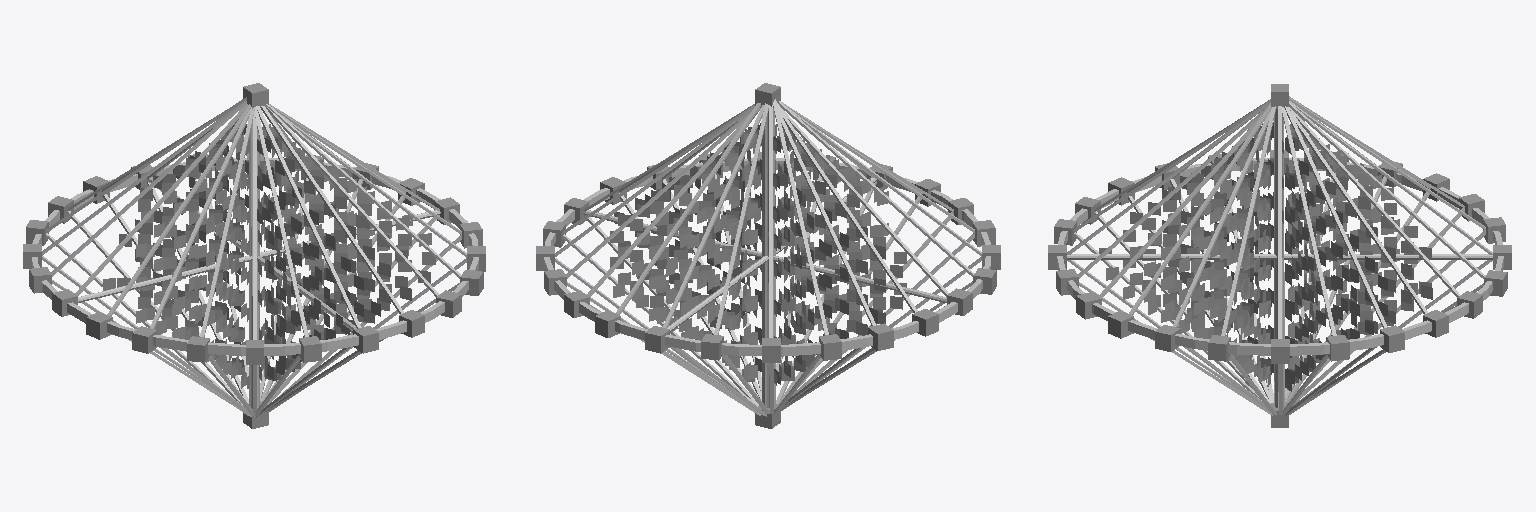
The model's file is NCSPrototyp_UnityOptimierung.obj.
3 views of the same model, side by side, from view 1: azimuth 30°, elevation 25°; view 2: azimuth 150°, elevation 25°; view 3: azimuth 270°, elevation 25° (orthographic).
Parts seen in each view (by area): view 1: Farbkreis_Circle.002, DR_Cube.019, DB50G_Cube.009, DR80B_Cube.005, DR20B_Cube.016, DR70B_Cube.047, DY80R_Cube.033, DR50B_Cube.017, DB20G_Cube.023, DY30R_Cube.041, DY50R_Cube.001, DY70R_Cube.043 (+12 smaller); view 2: Farbkreis_Circle.002, DG20Y_Cube.031, DG70Y_Cube.039, DB50G_Cube.009, DB80G_Cube.021, DG_Cube.013, DB20G_Cube.023, DB30G_Cube.049, DG80Y_Cube.026, DG50Y_Cube.029, DR70B_Cube.047, DR50B_Cube.017 (+11 smaller); view 3: Farbkreis_Circle.002, DY50R_Cube.001, DG70Y_Cube.039, DG20Y_Cube.031, DY30R_Cube.041, DY20R_Cube.035, AchseY_Cylinder.002, DY80R_Cube.033, DG80Y_Cube.026, DG_Cube.013, DG50Y_Cube.029, DR_Cube.019 (+10 smaller).
Boxes of the visible parts, x1=… form: Farbkreis_Circle.002: x1=32, y1=158, x2=478, y2=355; DR_Cube.019: x1=252, y1=106, x2=361, y2=416; DB50G_Cube.009: x1=46, y1=97, x2=250, y2=415; DR80B_Cube.005: x1=107, y1=104, x2=257, y2=416; DR20B_Cube.016: x1=251, y1=107, x2=308, y2=415; DR70B_Cube.047: x1=150, y1=109, x2=251, y2=415; DY80R_Cube.033: x1=261, y1=106, x2=403, y2=412; DR50B_Cube.017: x1=200, y1=107, x2=255, y2=416; DB20G_Cube.023: x1=51, y1=101, x2=246, y2=405; DY30R_Cube.041: x1=257, y1=104, x2=461, y2=407; DY50R_Cube.001: x1=259, y1=104, x2=461, y2=413; DY70R_Cube.043: x1=266, y1=107, x2=439, y2=411; Farbkreis_Circle.002: x1=544, y1=158, x2=990, y2=356; DG20Y_Cube.031: x1=616, y1=103, x2=764, y2=415; DG70Y_Cube.039: x1=555, y1=104, x2=766, y2=406; DB50G_Cube.009: x1=773, y1=99, x2=828, y2=415; DB80G_Cube.021: x1=714, y1=103, x2=769, y2=413; DG_Cube.013: x1=662, y1=105, x2=769, y2=416; DB20G_Cube.023: x1=768, y1=104, x2=917, y2=407; DB30G_Cube.049: x1=774, y1=105, x2=875, y2=410; DG80Y_Cube.026: x1=563, y1=110, x2=767, y2=407; DG50Y_Cube.029: x1=566, y1=109, x2=752, y2=390; DR70B_Cube.047: x1=786, y1=106, x2=981, y2=387; DR50B_Cube.017: x1=782, y1=102, x2=974, y2=396; Farbkreis_Circle.002: x1=1057, y1=158, x2=1503, y2=355; DY50R_Cube.001: x1=1129, y1=103, x2=1278, y2=415; DG70Y_Cube.039: x1=1284, y1=106, x2=1387, y2=415; DG20Y_Cube.031: x1=1282, y1=102, x2=1485, y2=414; DY30R_Cube.041: x1=1221, y1=106, x2=1276, y2=415; DY20R_Cube.035: x1=1172, y1=111, x2=1270, y2=411; AchseY_Cylinder.002: x1=1067, y1=254, x2=1492, y2=259; DY80R_Cube.033: x1=1078, y1=104, x2=1269, y2=397; DG80Y_Cube.026: x1=1282, y1=107, x2=1336, y2=414; DG_Cube.013: x1=1289, y1=101, x2=1492, y2=406; DG50Y_Cube.029: x1=1289, y1=107, x2=1427, y2=408; DR_Cube.019: x1=1067, y1=99, x2=1270, y2=400.
Size of the model in its own units: 2.05 by 1.65 by 2.06.